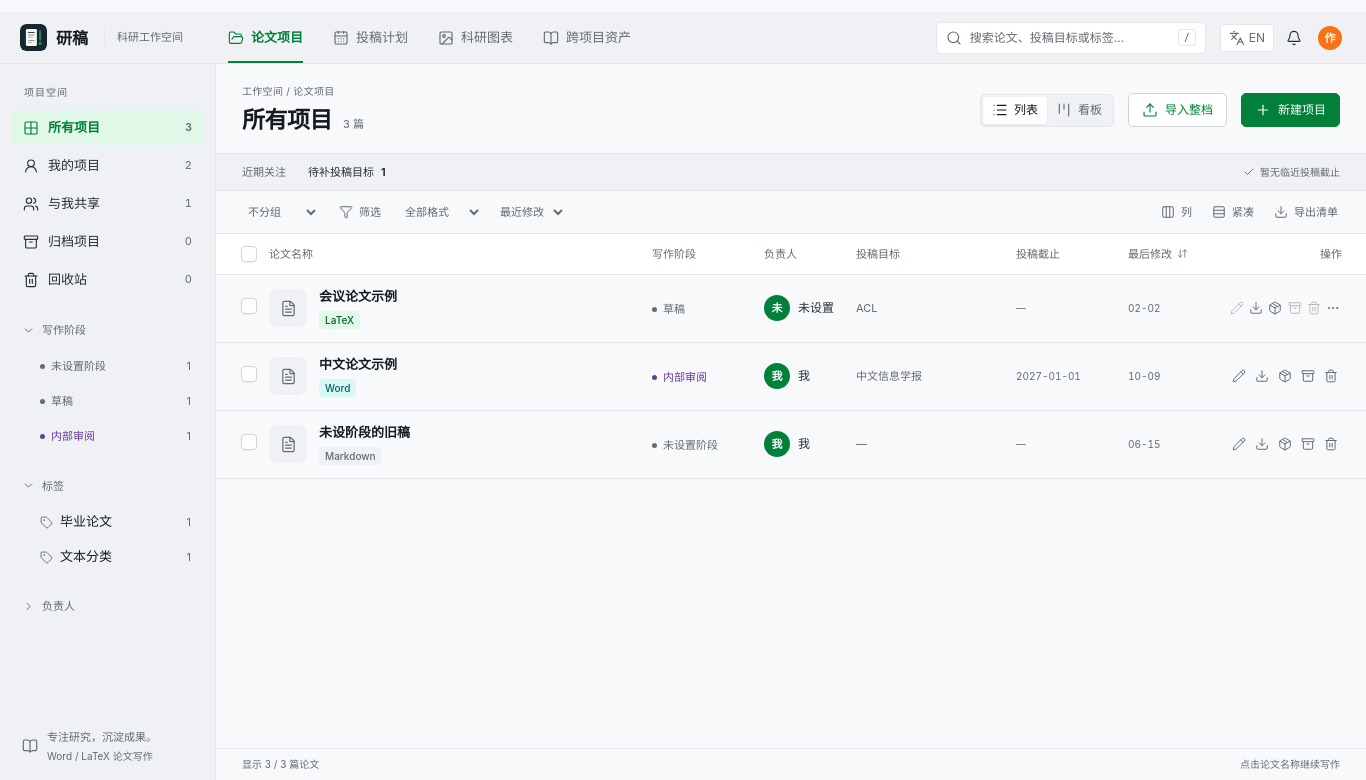
Test: 列表 Word 下载锁定已保存的具体版本，明确不含其他窗口未保存修改
The width and height of the screenshot is (1366, 780).
Click the button named "下载 中文论文示例 的已保存 Word 版本". click: coordinates (1262, 376)
box: [1251,362,1272,390]
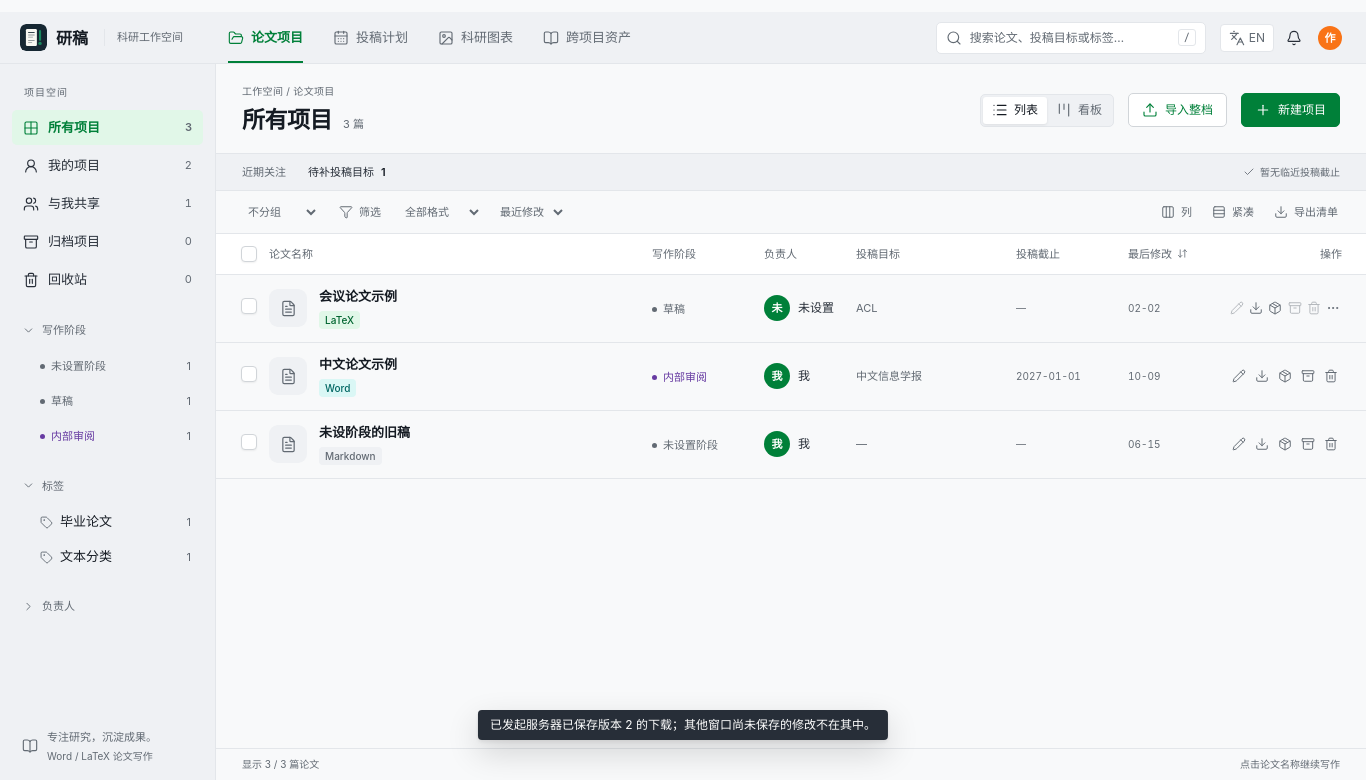
Expected: the text "已保存版本 2" is shown, [490,717,876,732]
